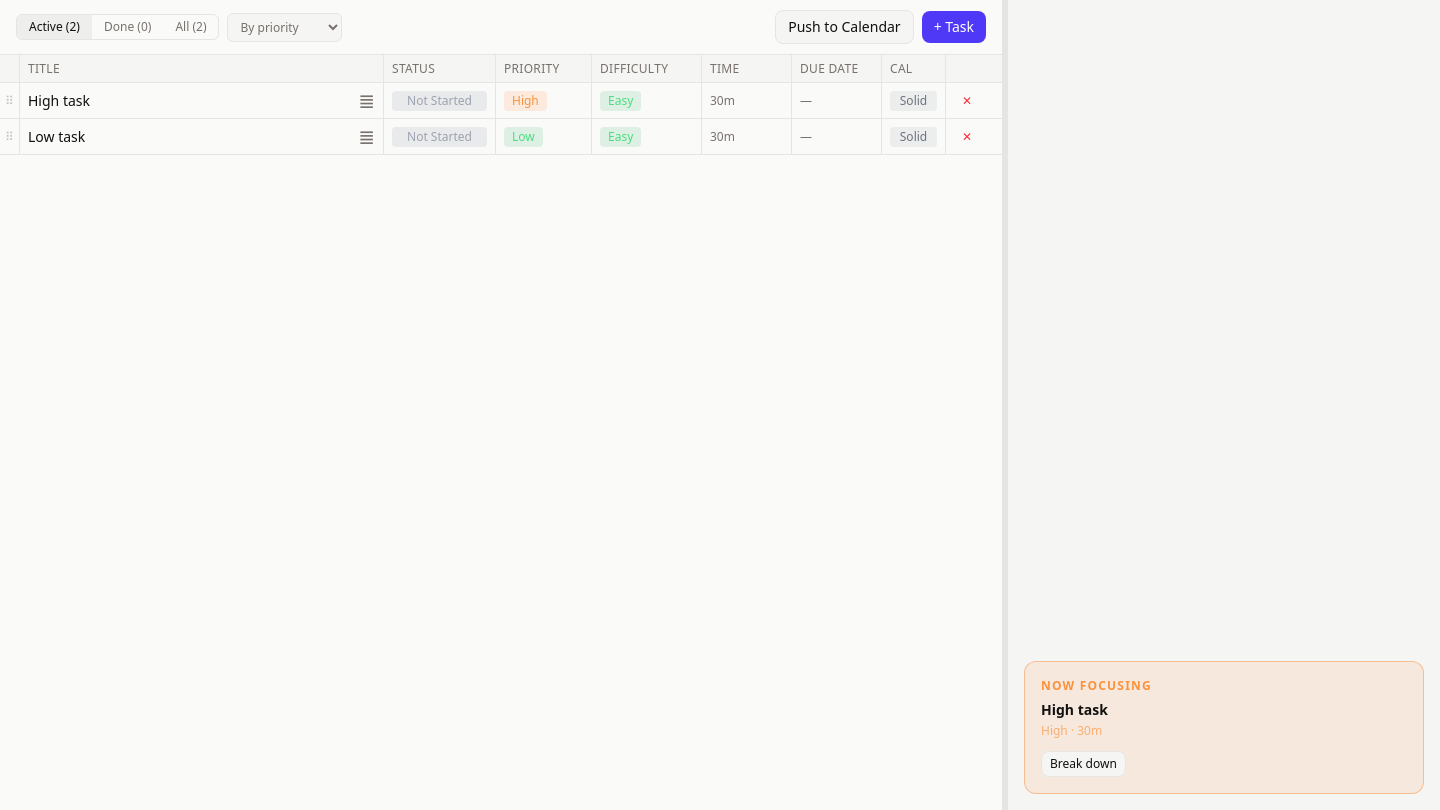
it: WorkspacePage regressions › clicking the added row still lets the user edit it inline
Click the button "+ Task".
click(954, 27)  # box top-left (922, 11), bottom-right (986, 43)
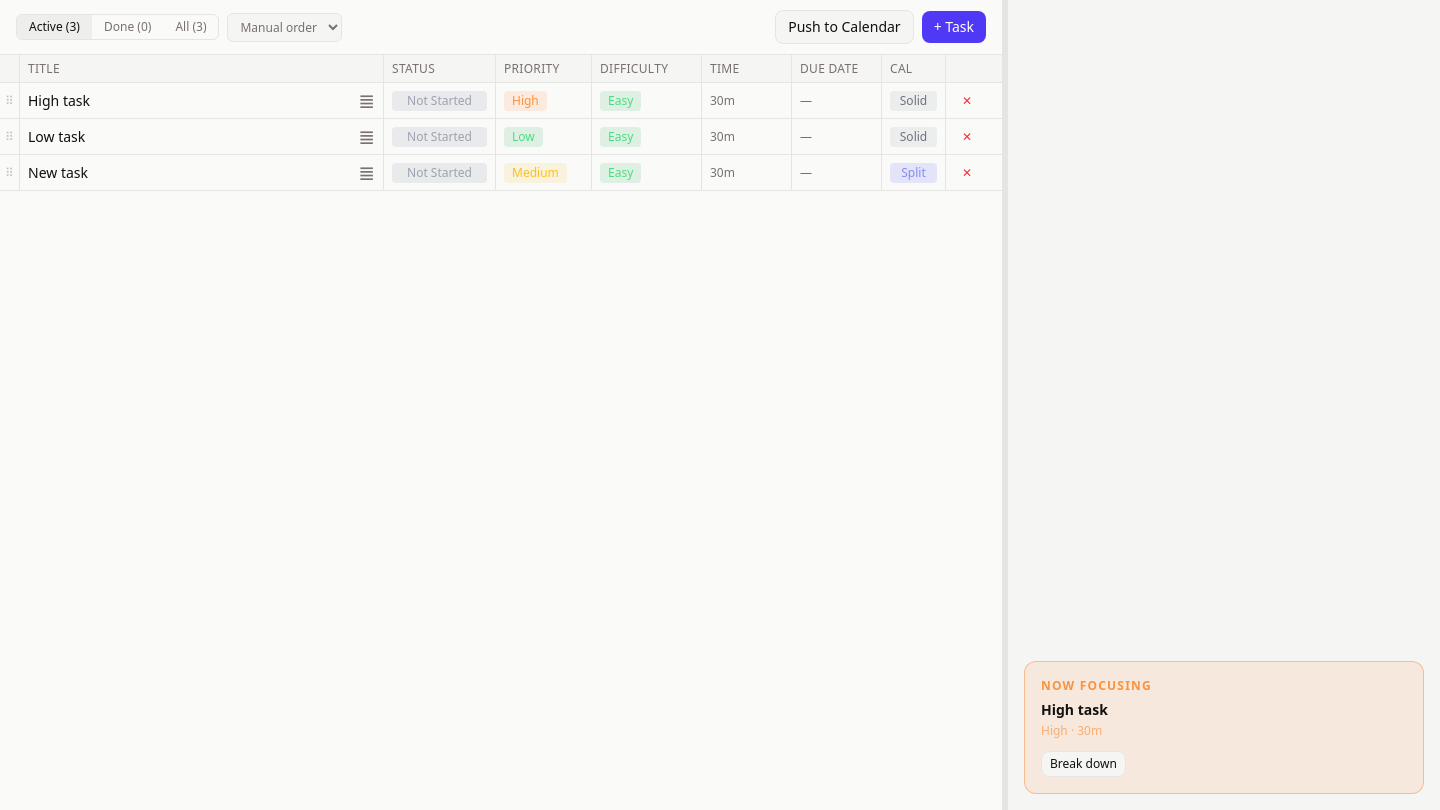
Click the text "New task".
click(58, 172)  # box top-left (28, 162), bottom-right (88, 182)
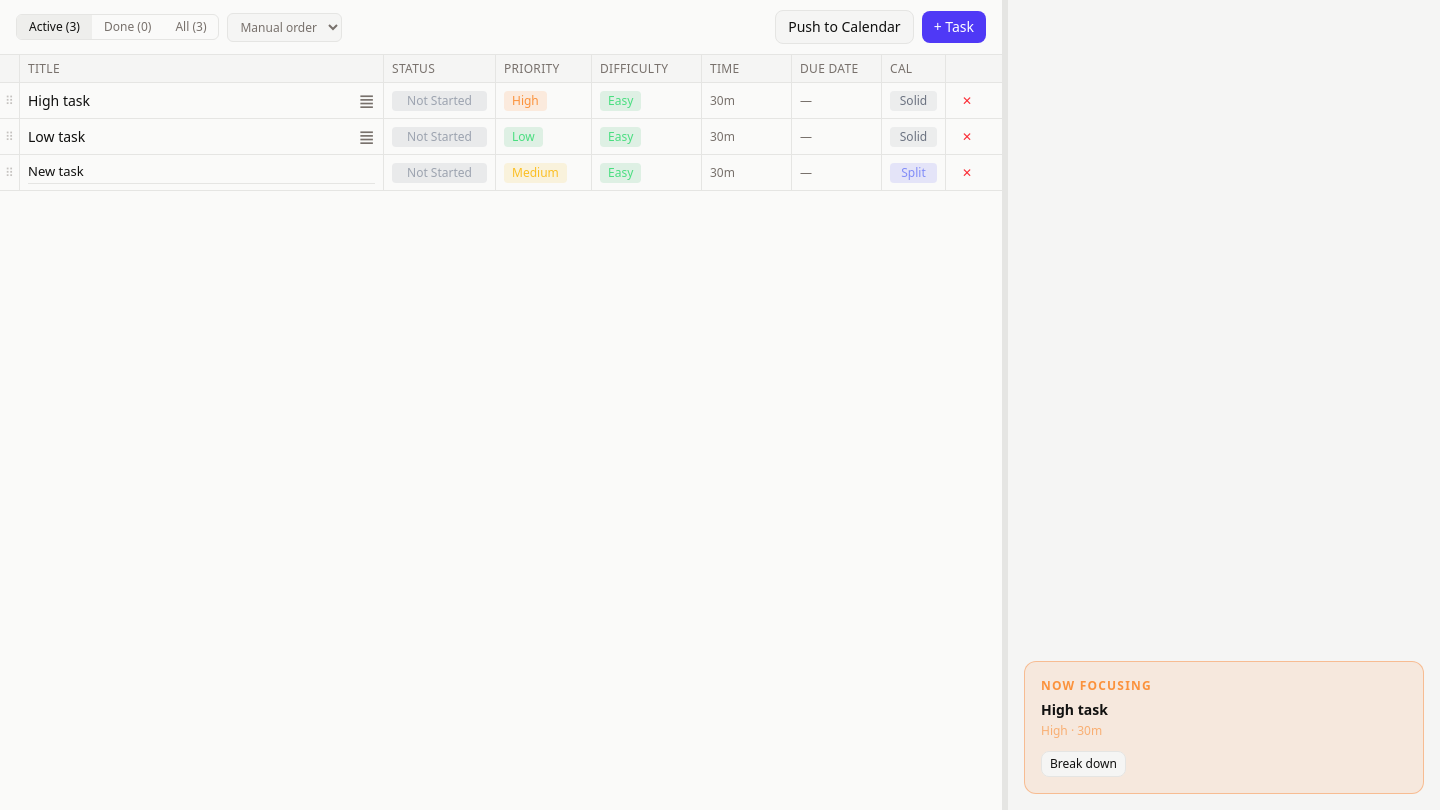
Result: the field showing "New task" is shown at top-left (28, 161), bottom-right (375, 184)
